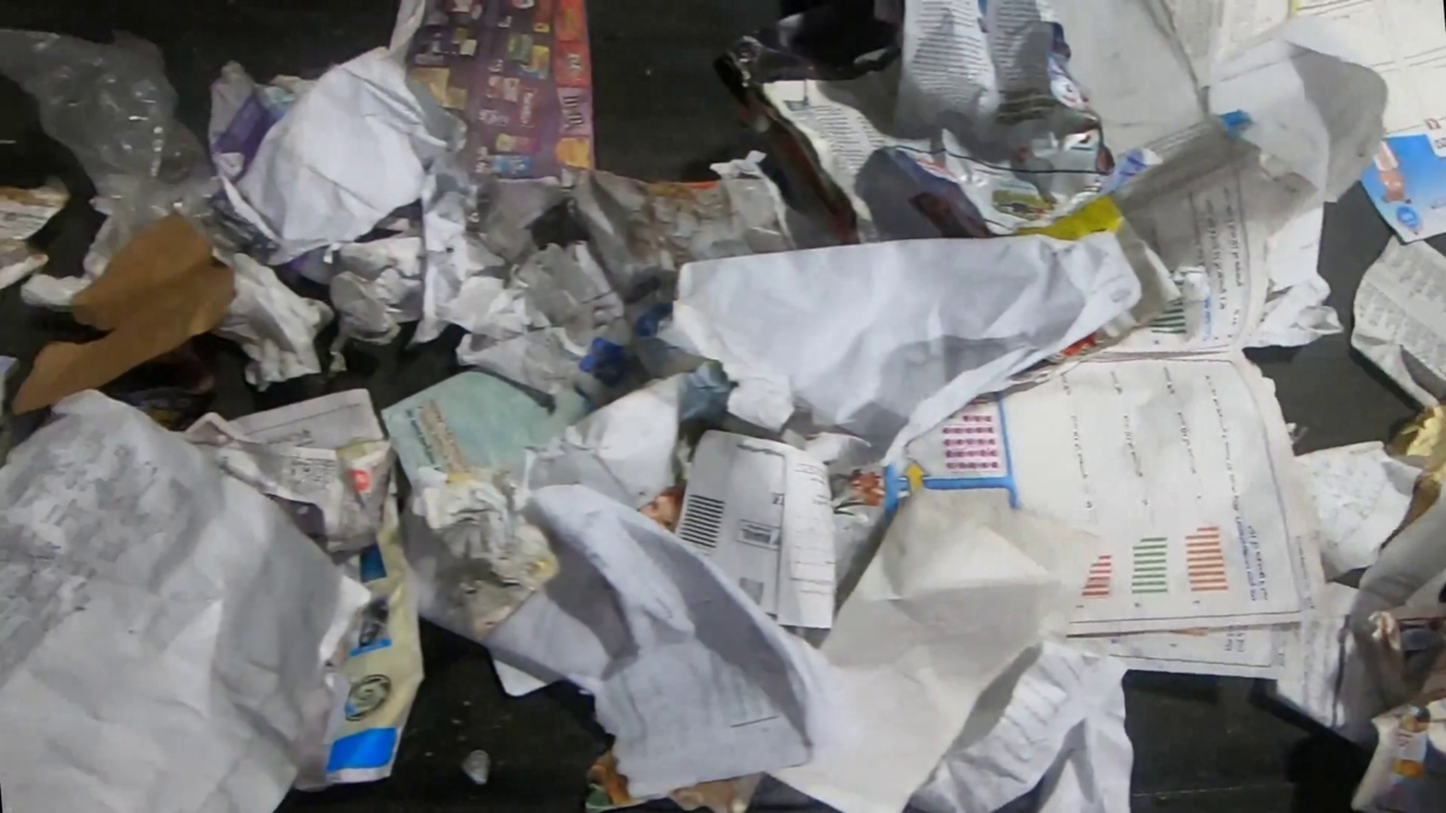cardboard: (9, 213, 235, 417), (669, 425, 837, 630), (1356, 125, 1446, 246)
plastic: (0, 26, 227, 266), (207, 58, 259, 156)
